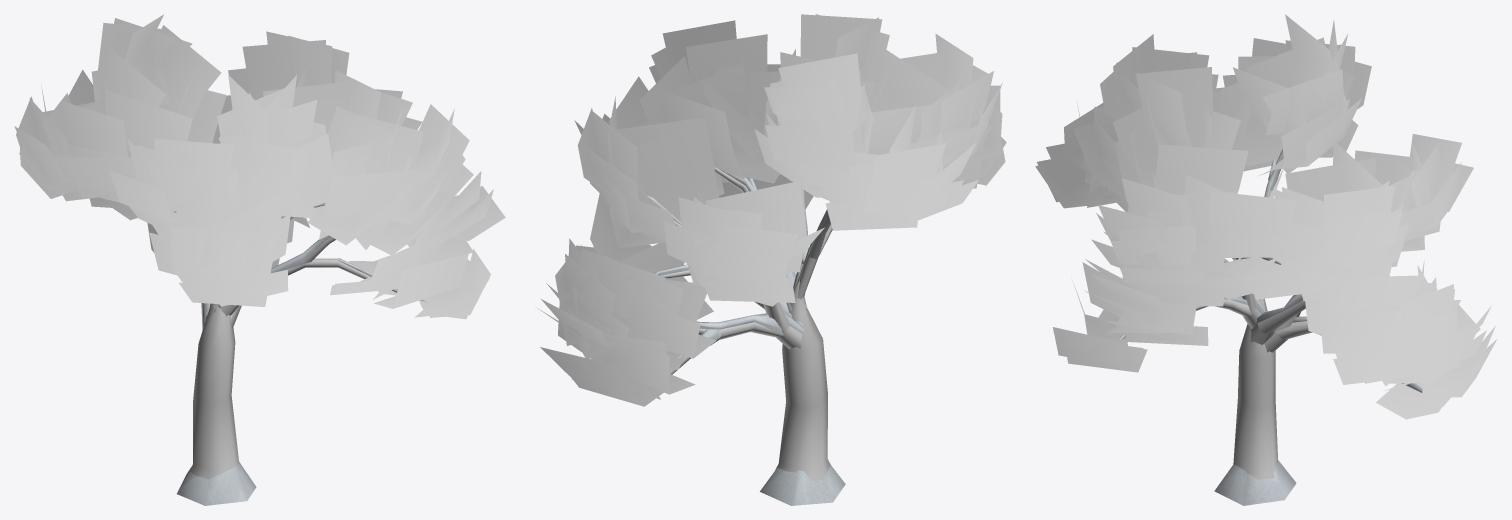
File: Tree_Medium_6_Tall_Snow.fbx
3 views of the same model, side by side, from view 1: azimuth 30°, elevation 25°; view 2: azimuth 150°, elevation 25°; view 3: azimuth 270°, elevation 25° (orthographic). The views are drawn at different scales.
Visible parts, largest first — view 1: Tree_Medium_6_Snow_LOD0; view 2: Tree_Medium_6_Snow_LOD0; view 3: Tree_Medium_6_Snow_LOD0.
Boxes of the visible parts, x1,y1,x2,y2 form: Tree_Medium_6_Snow_LOD0: [14, 14, 505, 505]; Tree_Medium_6_Snow_LOD0: [537, 14, 1006, 505]; Tree_Medium_6_Snow_LOD0: [1035, 14, 1497, 505].
Size of what is drawn, in the model's own units: 1877 by 2019 by 1906.
